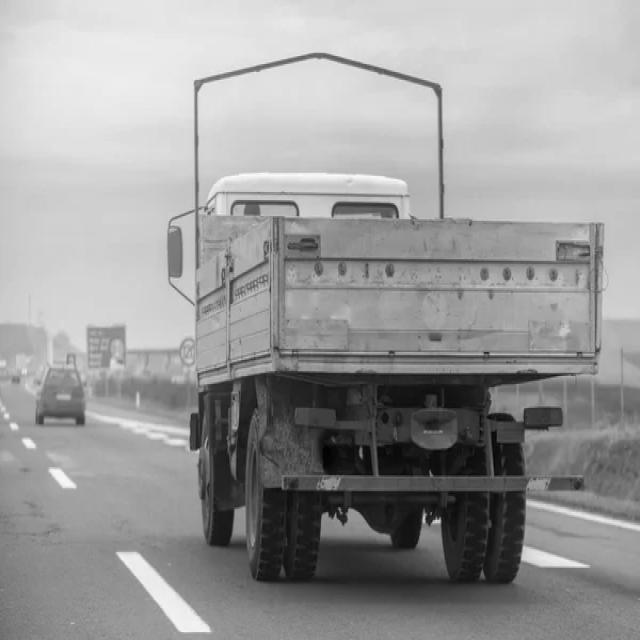Car: (36, 370, 86, 426)
Truck: (190, 173, 603, 584)
